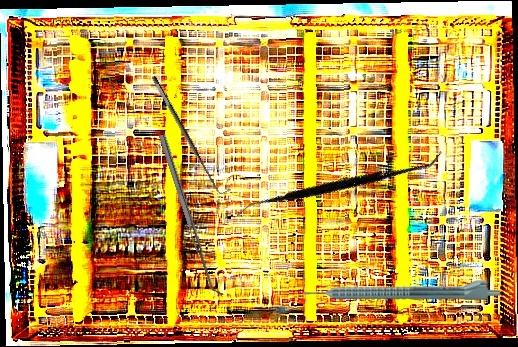Handpiece: (303, 278, 500, 300)
Hook Surgical: (149, 70, 232, 199)
Spatula Surgical: (234, 78, 444, 289), (158, 132, 225, 299)
